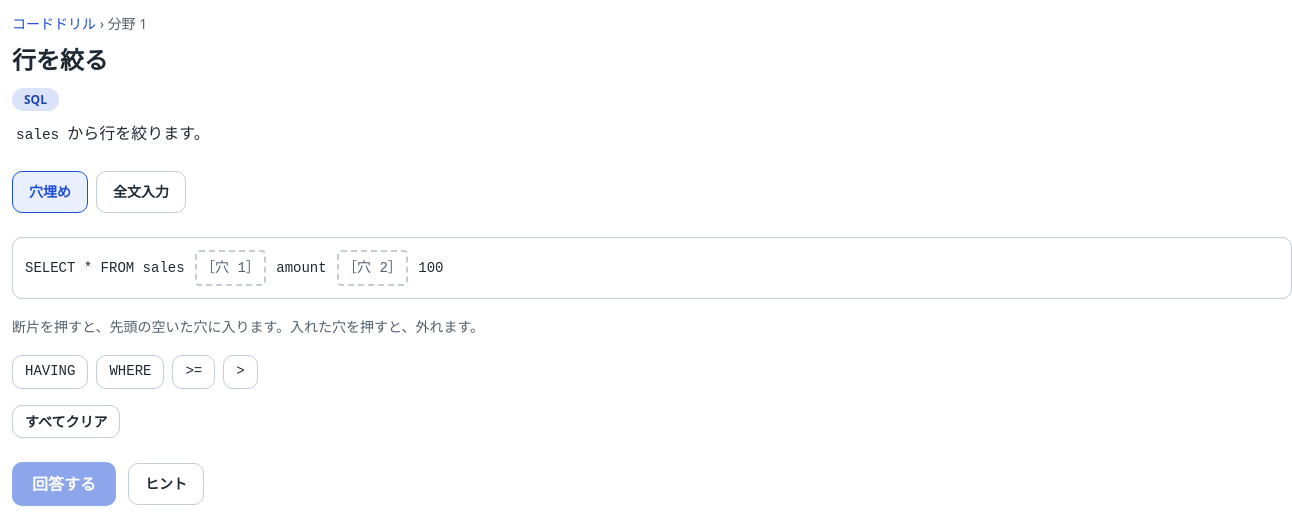
Test: CodeDrillPlayer(穴埋め) › 穴を押して外し_すべてクリアで空に戻る
Click the button "HAVING": {"x": 50, "y": 372} [12, 355, 88, 389]
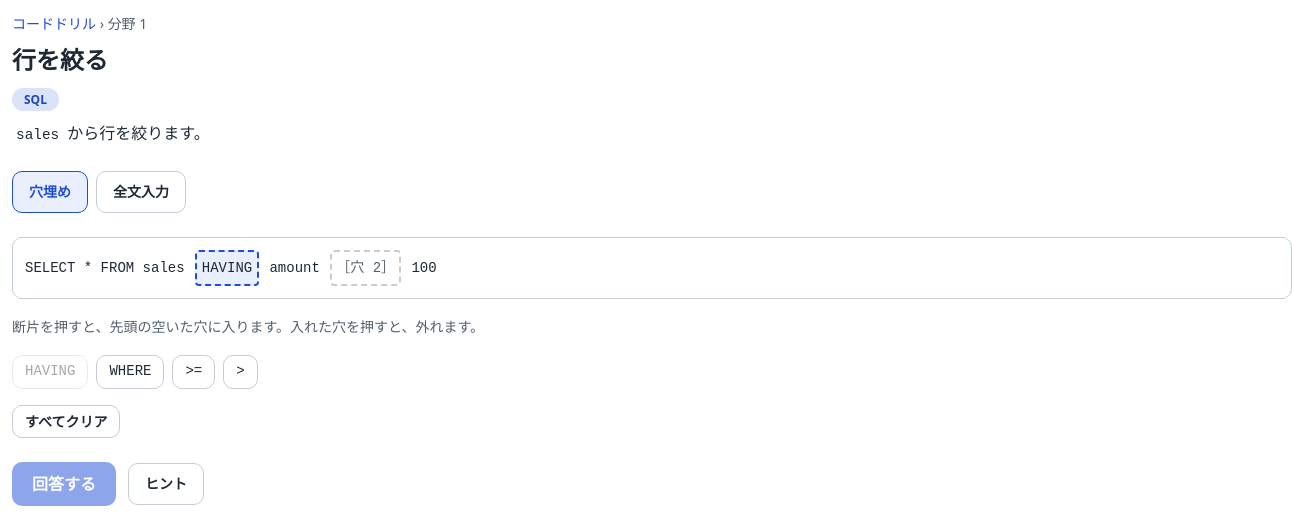
Click the button with aria-label "穴 1: HAVING": {"x": 227, "y": 268} [195, 250, 259, 286]
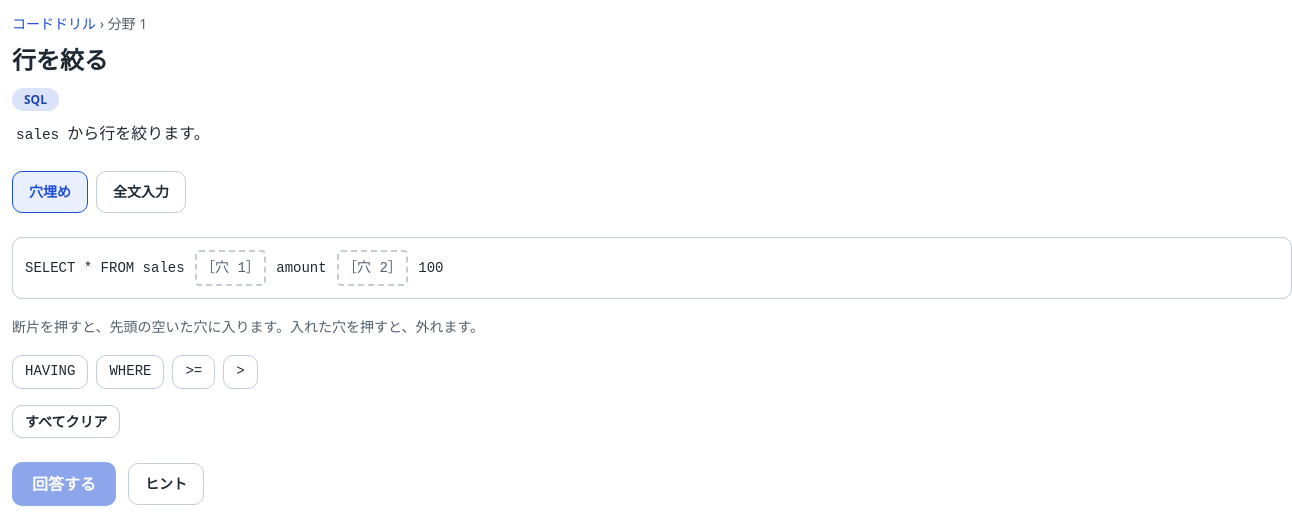
Check: the button named "穴 1: 空" is shown, box [195, 250, 266, 286]
Click the button "WHERE": {"x": 130, "y": 372} [96, 355, 164, 389]
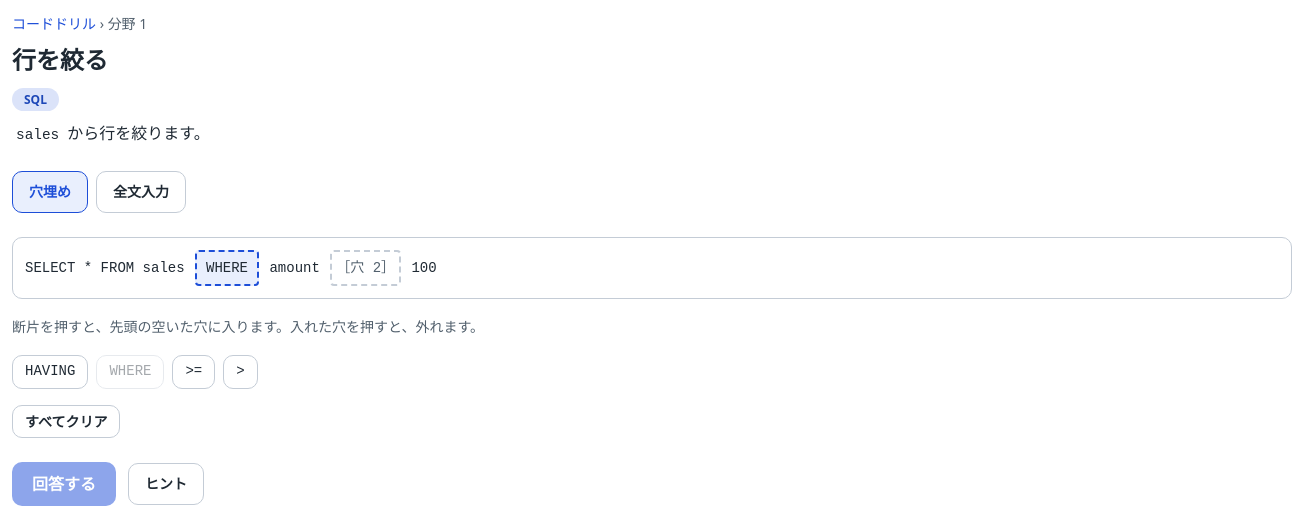
Click the button "すべてクリア": {"x": 66, "y": 422} [12, 405, 120, 438]
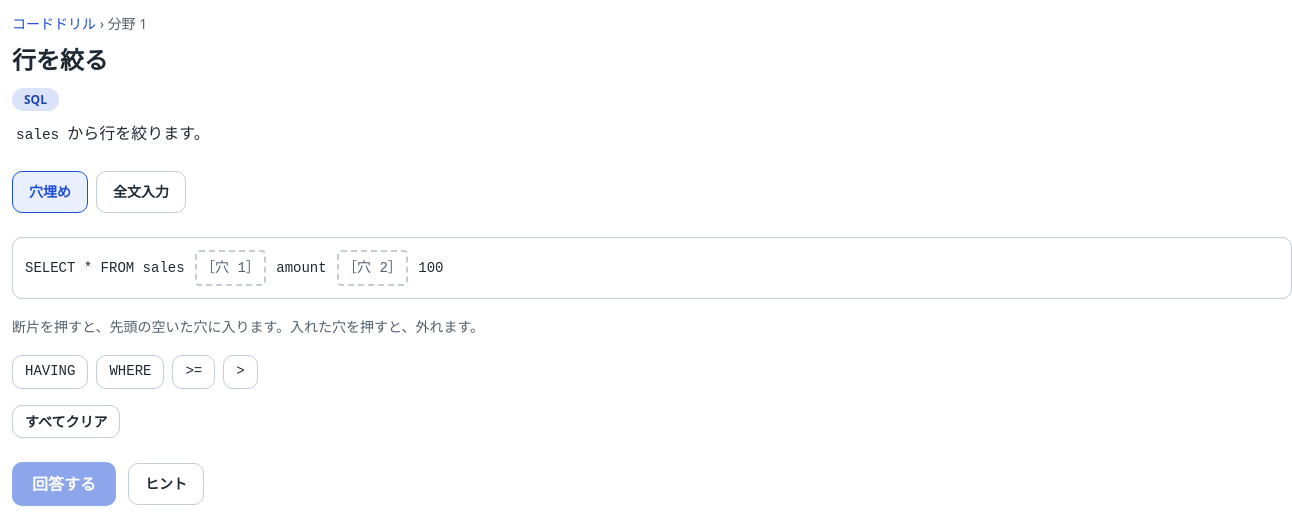
Check: the button named "穴 1: 空" is shown, box [195, 250, 266, 286]
